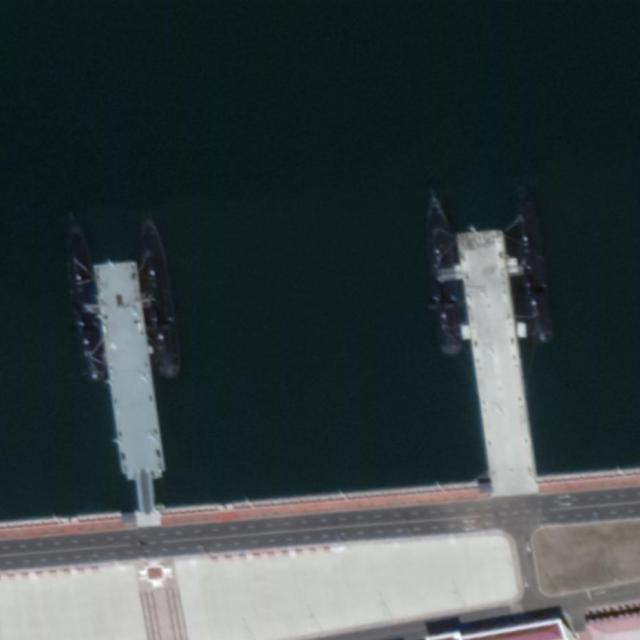Submarine: (127, 211, 186, 381), (501, 182, 560, 342), (59, 217, 110, 385), (417, 184, 467, 354)
